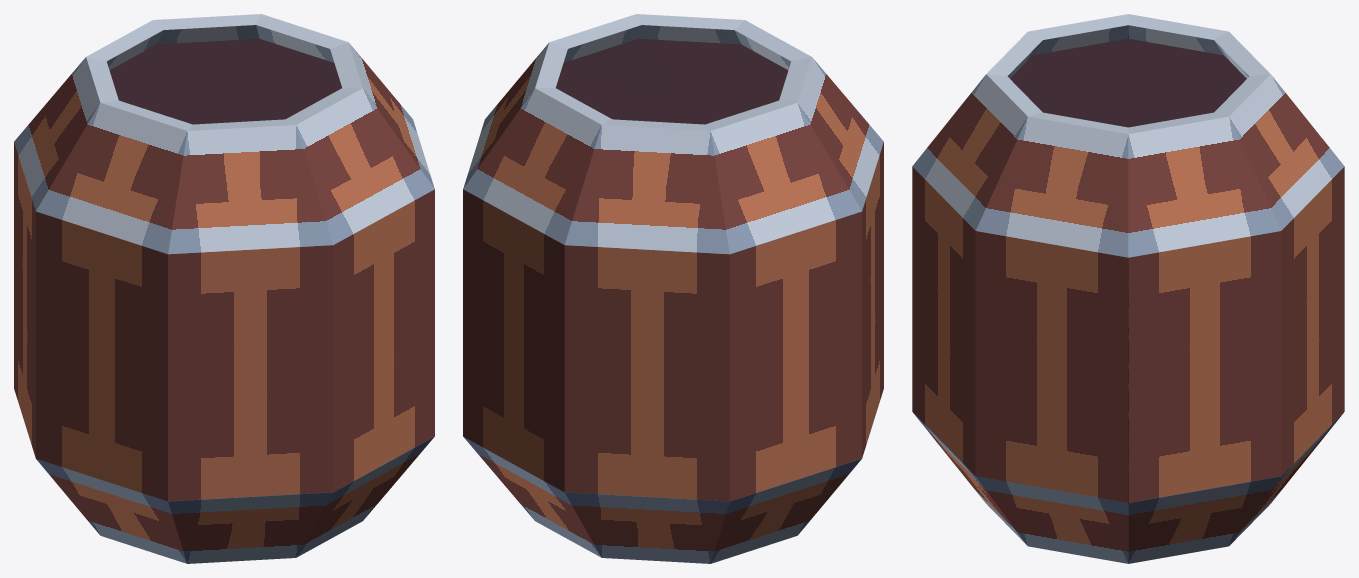
Rendered from barrel.glb.
The picture shows the model from 3 angles, left to right: view 1: azimuth 30°, elevation 25°; view 2: azimuth 150°, elevation 25°; view 3: azimuth 270°, elevation 25°; orthographic projection.
Visible parts, largest first — view 1: Barrel; view 2: Barrel; view 3: Barrel.
Boxes of the visible parts, x1=… form: Barrel: x1=14, y1=14, x2=434, y2=563; Barrel: x1=463, y1=14, x2=883, y2=563; Barrel: x1=912, y1=14, x2=1344, y2=563.
Size of the model in its own units: 0.9118 by 1 by 0.9118.
1 material, 1 textured.
